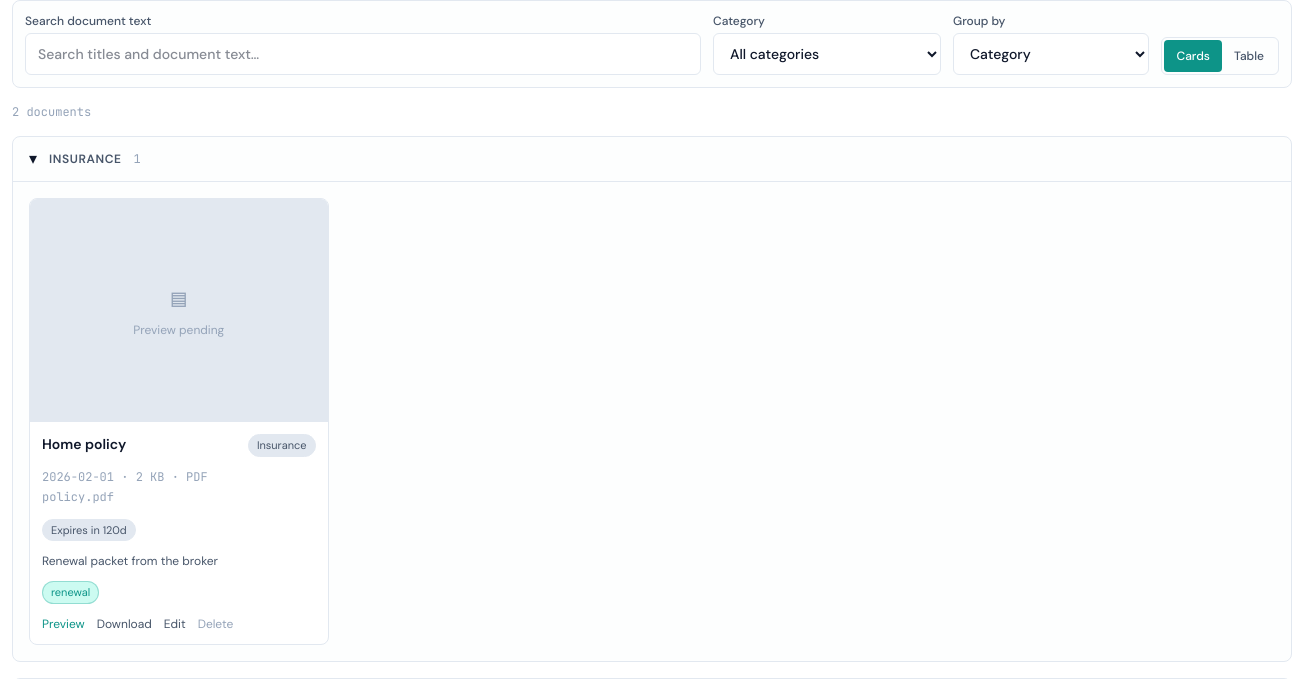
Test: DocumentVaultBrowser › shows the relative expiry pill and file/notes metadata
This screenshot has width=1304, height=679.
Expected: the text "Expires in 120d" is shown, left=42, top=519, right=136, bottom=541
Expected: the text "policy.pdf" is shown, left=42, top=489, right=114, bottom=505
Click the button "table" at (1249, 56), box left=1222, top=40, right=1276, bottom=72
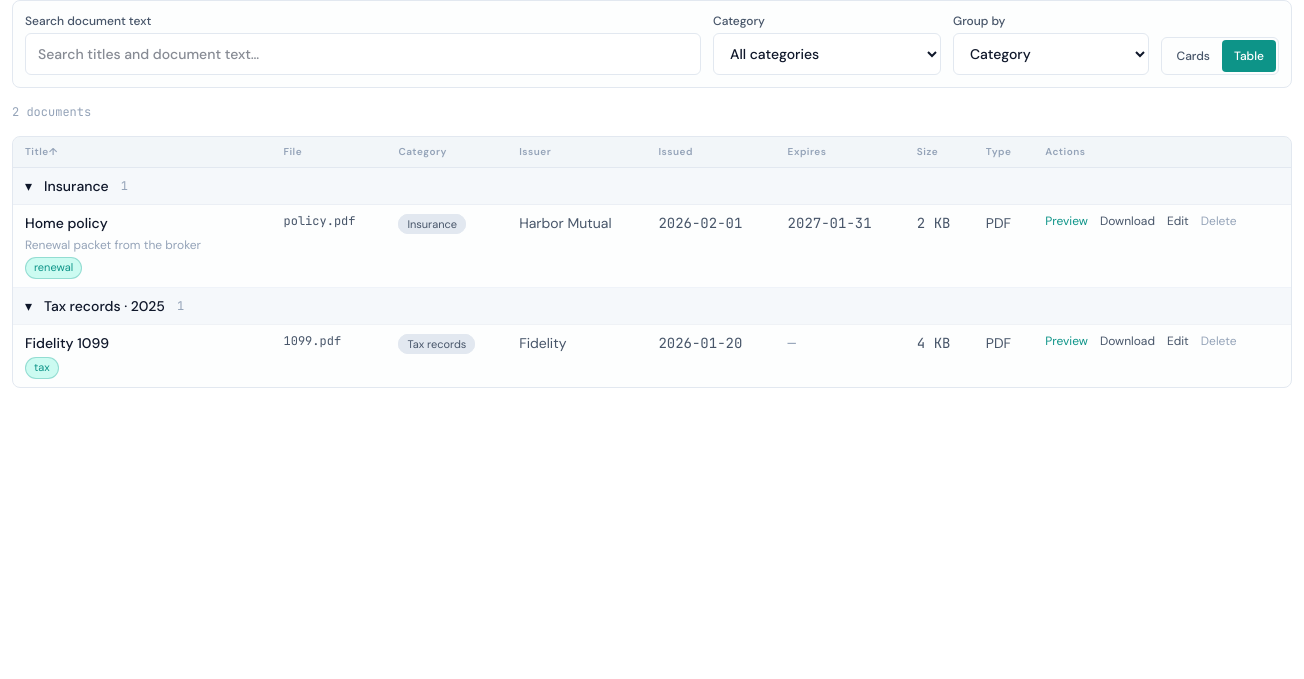
Expected: the text "policy.pdf" is shown, left=284, top=213, right=356, bottom=229
Expected: the column heading "File" is shown, left=272, top=137, right=386, bottom=168
